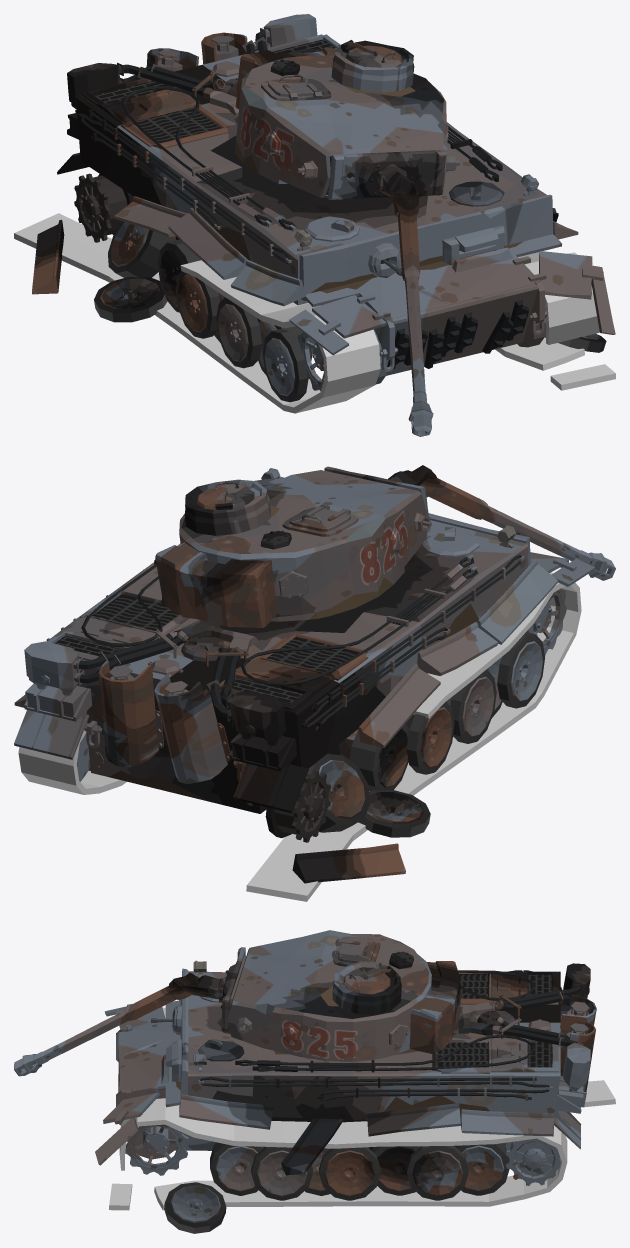
File: SM_Veh_German_Tank_Destroyed_01.fbx
The picture shows the model from 3 angles, top to bottom: view 1: azimuth 30°, elevation 25°; view 2: azimuth 150°, elevation 25°; view 3: azimuth 270°, elevation 25°; orthographic projection. The views are drawn at different scales.
Visible parts, largest first — view 1: SM_Veh_German_Tank_Destroyed_01, Tread; view 2: SM_Veh_German_Tank_Destroyed_01, Tread; view 3: SM_Veh_German_Tank_Destroyed_01, Tread.
Part boxes in pixels (box(x1,y1,x2,y2)): SM_Veh_German_Tank_Destroyed_01: box(32, 14, 615, 436); Tread: box(14, 213, 615, 413); SM_Veh_German_Tank_Destroyed_01: box(14, 465, 615, 883); Tread: box(18, 572, 581, 901); SM_Veh_German_Tank_Destroyed_01: box(14, 930, 596, 1233); Tread: box(109, 1007, 615, 1210).
Bounding box in the file's own units: 511 × 312 × 793.
